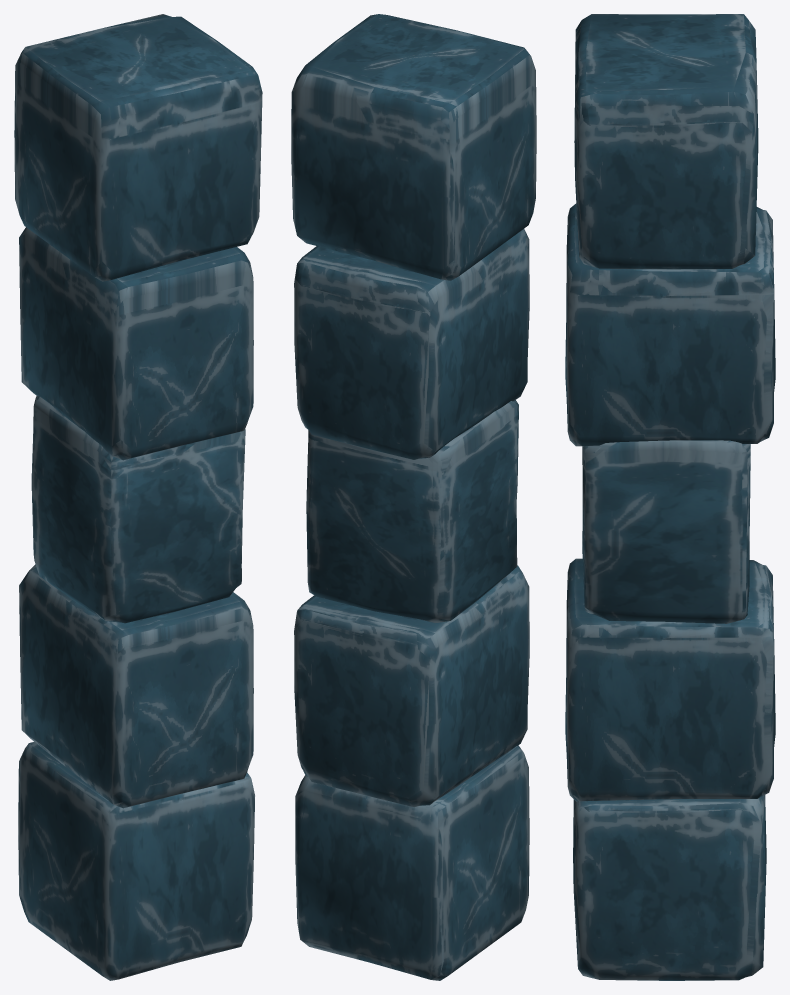
File: PillarBlocks.fbx
3 views of the same model, side by side, from view 1: azimuth 30°, elevation 25°; view 2: azimuth 150°, elevation 25°; view 3: azimuth 270°, elevation 25° (orthographic). The views are drawn at different scales.
Parts seen in each view (by area): view 1: PillarBlocks; view 2: PillarBlocks; view 3: PillarBlocks.
Boxes of the visible parts, x1=… form: PillarBlocks: x1=14, y1=14, x2=262, y2=980; PillarBlocks: x1=291, y1=14, x2=536, y2=980; PillarBlocks: x1=565, y1=14, x2=775, y2=980.
Bounding box in the file's own units: 0.6447 × 3.25 × 0.691.
